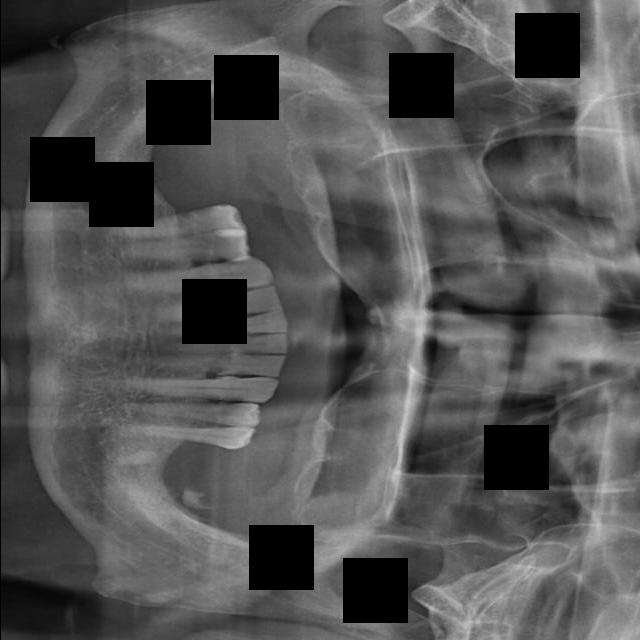Composite filling: (127, 425, 257, 450)
Cowellmedi Implant: (123, 401, 262, 426)
Crown: (123, 369, 279, 404)
DENTSPLY Implant: (142, 349, 287, 376)
Dentatus Implant: (168, 332, 292, 362)
Dentis Implant: (172, 308, 290, 340)
Dentium Implant: (163, 284, 282, 332)
Euroteknika Implant: (125, 252, 275, 309)
Filling: (121, 226, 253, 261)
Frontier Implant: (109, 202, 248, 241)
